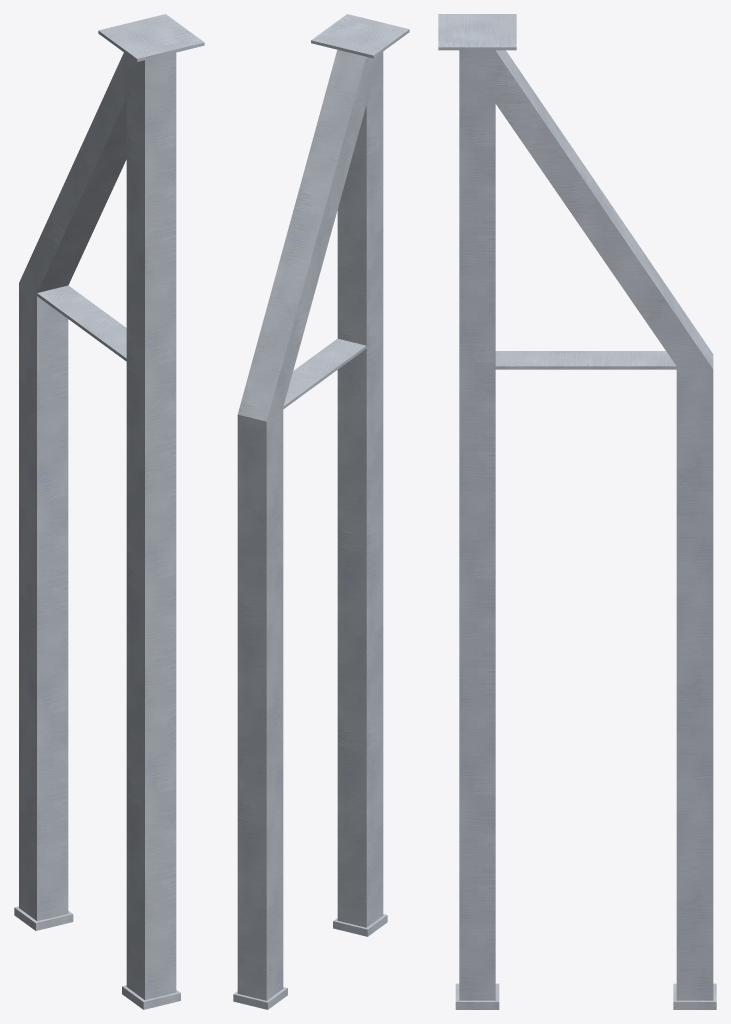
Rendered from fixture.fbx.
3 views of the same model, side by side, from view 1: azimuth 30°, elevation 25°; view 2: azimuth 150°, elevation 25°; view 3: azimuth 270°, elevation 25° (orthographic). The views are drawn at different scales.
Visible parts, largest first — view 1: SketchUp, ID35, ID65, ID57, ID43; view 2: SketchUp, ID35, ID65, ID57, ID43; view 3: SketchUp, ID35.
Part boxes in pixels (box(x1,y1,x2,y2)): SketchUp: box(19, 52, 176, 999); ID35: box(98, 14, 204, 61); ID65: box(14, 906, 73, 930); ID57: box(122, 985, 180, 1009); ID43: box(127, 26, 175, 46); SketchUp: box(237, 49, 383, 1000); ID35: box(311, 14, 409, 58); ID65: box(233, 987, 287, 1009); ID57: box(333, 914, 387, 936); ID43: box(338, 25, 382, 44); SketchUp: box(459, 50, 713, 1000); ID35: box(438, 14, 516, 50).
Bounding box in the file's own units: 17.79 × 63.01 × 242.
2 materials, 1 textured.
